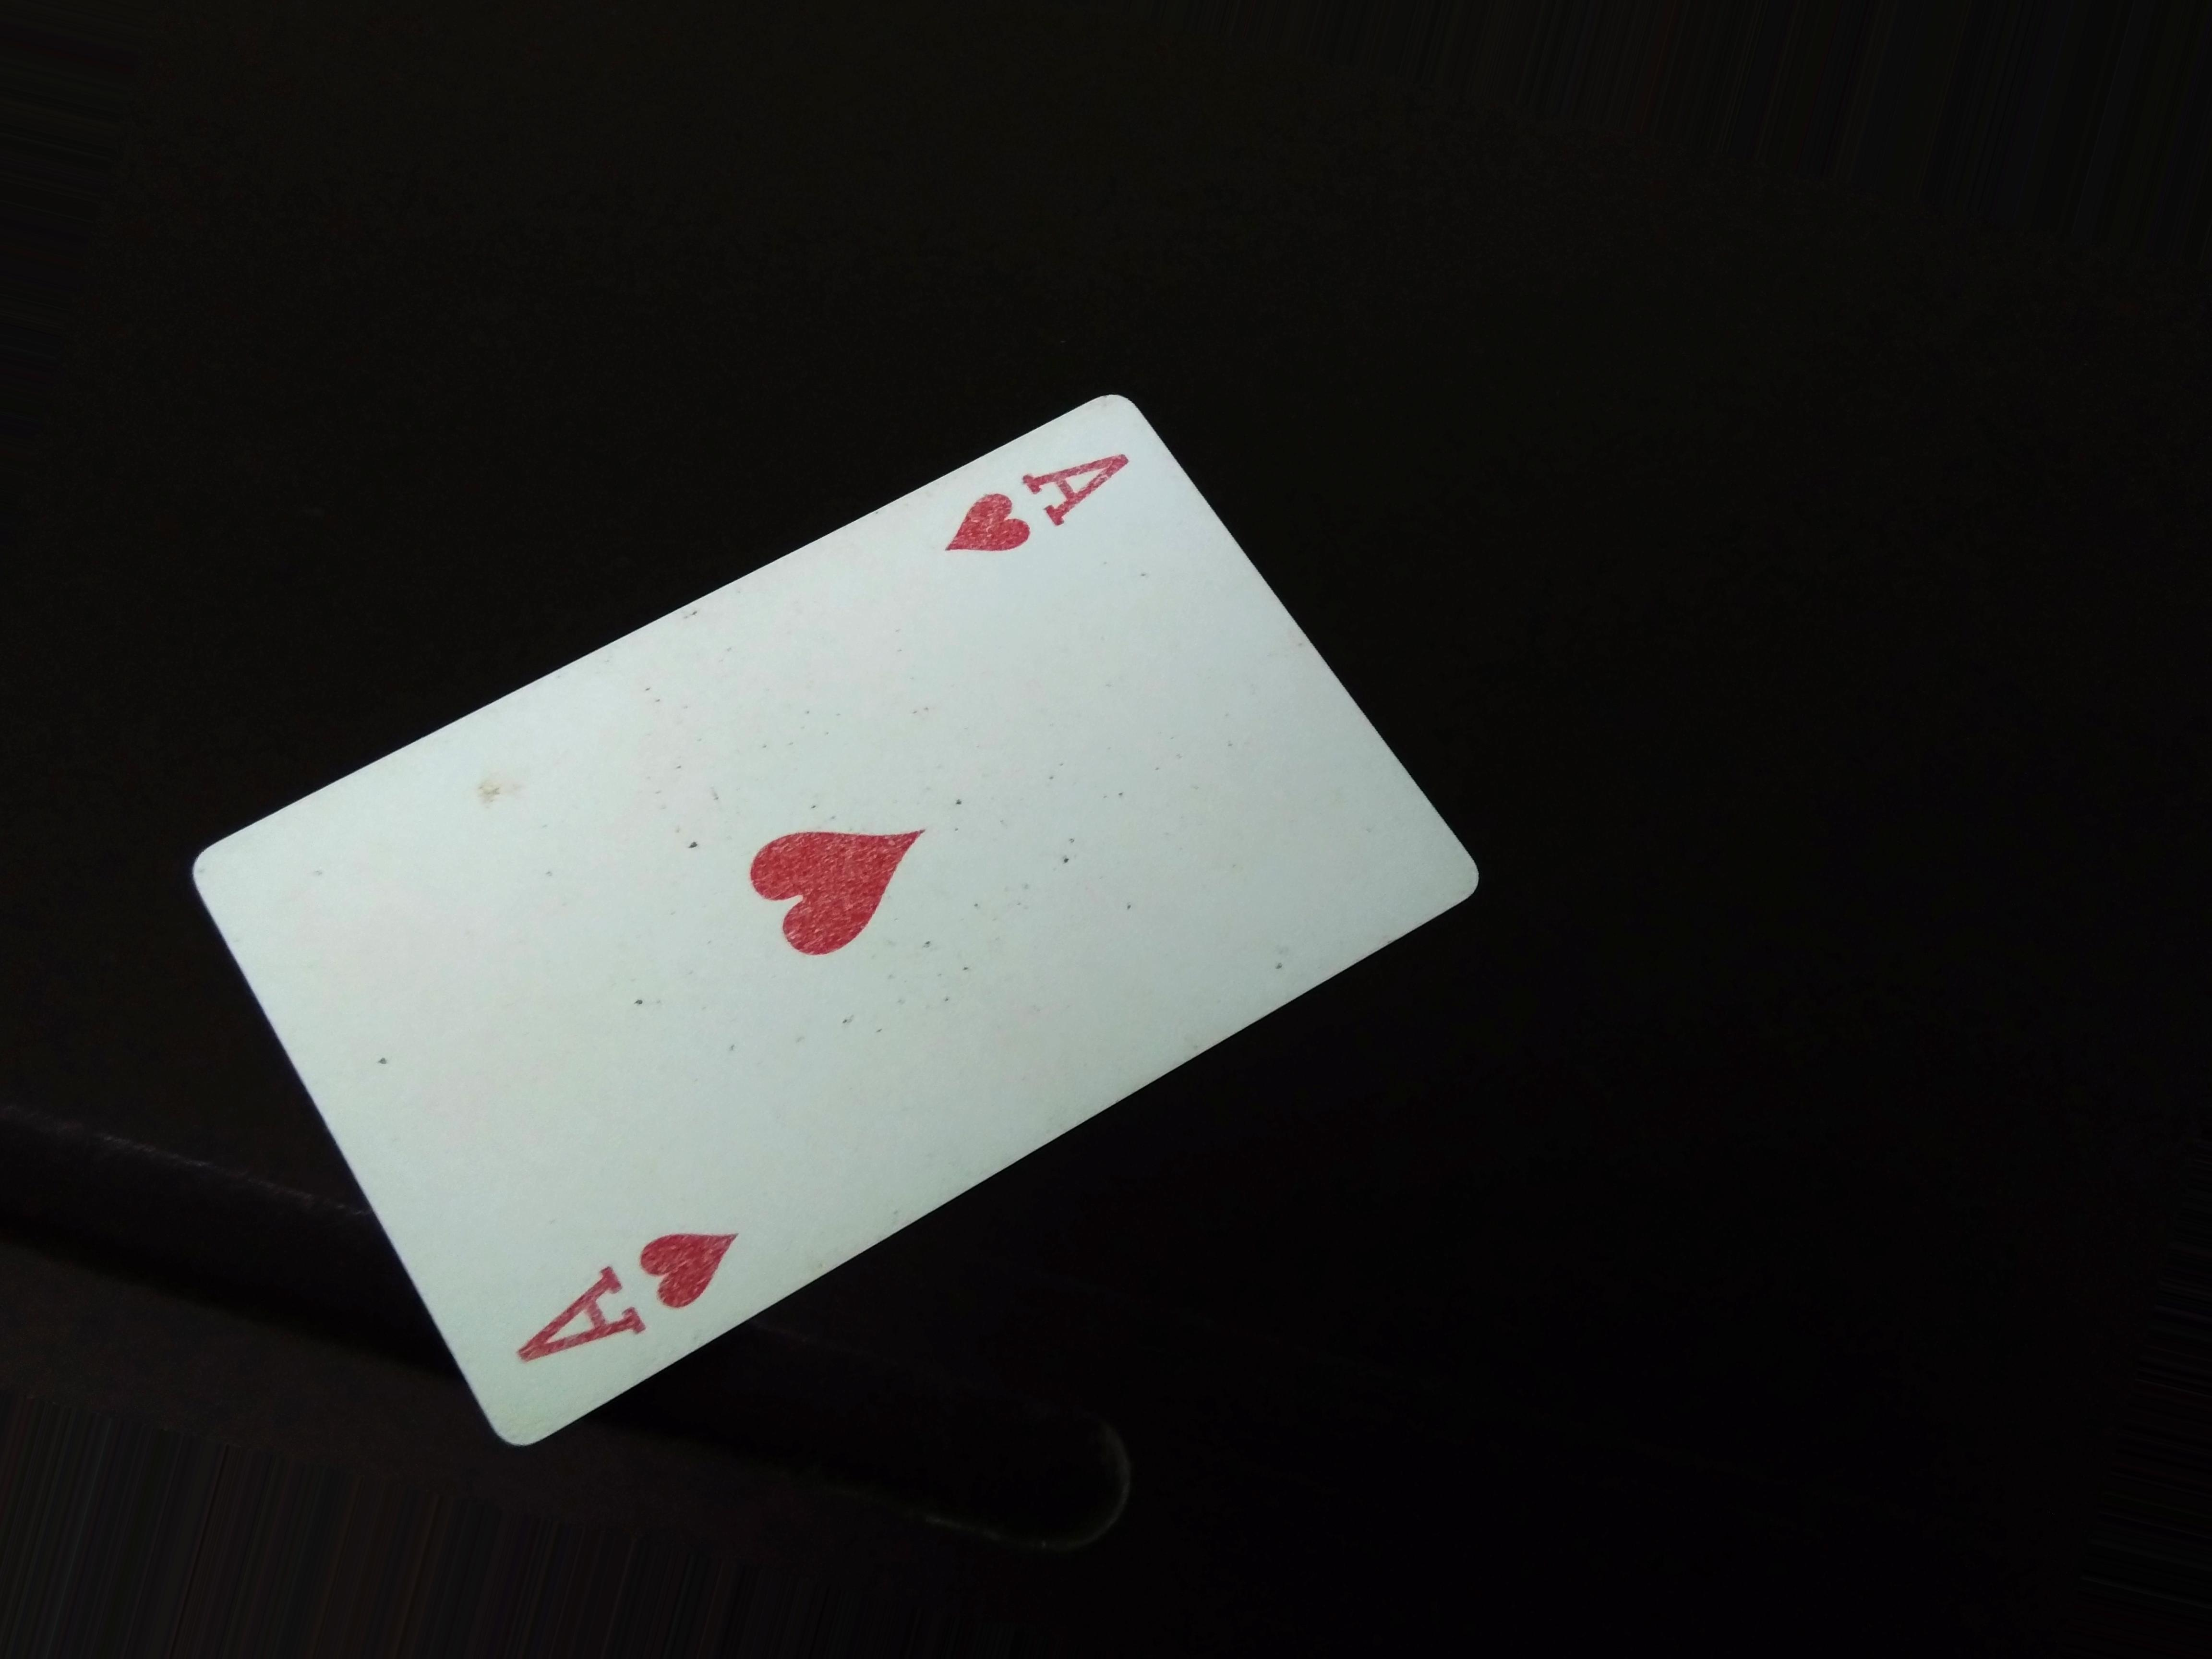AH: (514, 1208, 761, 1368)
